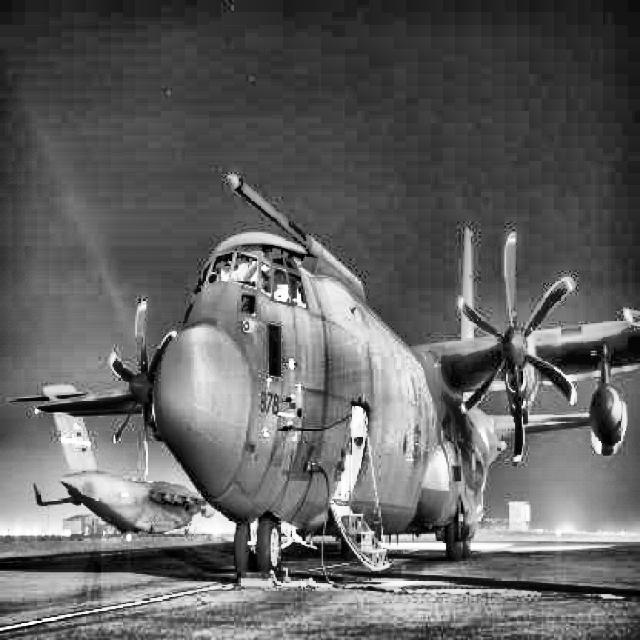C130: (34, 173, 640, 582)
C17: (4, 384, 216, 534)
